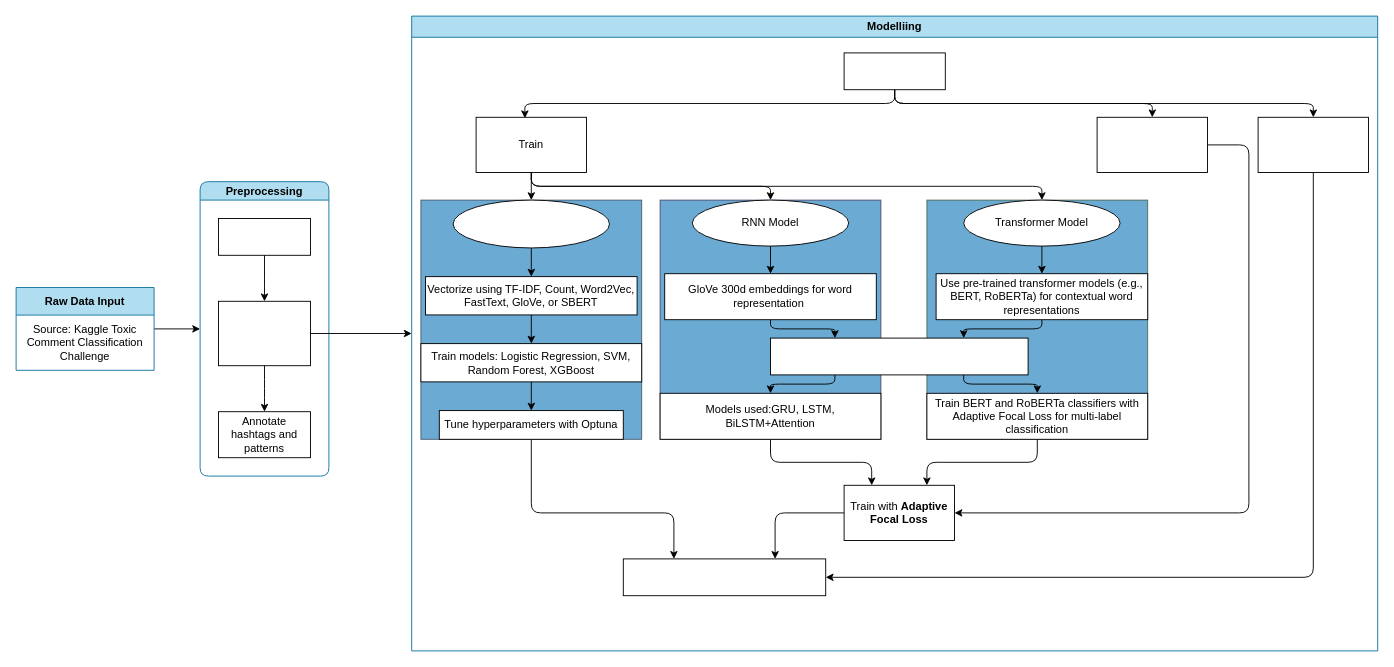
The diagram is 1394 pixels wide and 667 high, and some of its shapes have lost their labels. The shapes that lost their labels are listed below. From the top down, each one's centre as x and y in pixels, then its label:
(x=894, y=71): Preprocessed Tokens
(x=1152, y=144): Val
(x=1312, y=144): Test
(x=264, y=236): Clean and standardize text
(x=531, y=223): Vectorizer Model
(x=264, y=333): Tokenize with Ekphrasis : Split text, handle social media
(x=899, y=356): Stratified splitting and oversampling for class balance
(x=724, y=577): Evaluate and output best model and metrics
